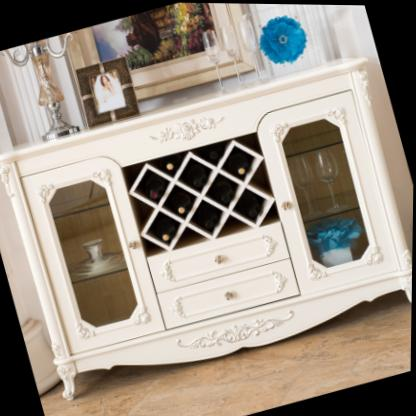Ceramic floor: (42, 292, 413, 416)
Cupboard: (0, 56, 413, 400)
